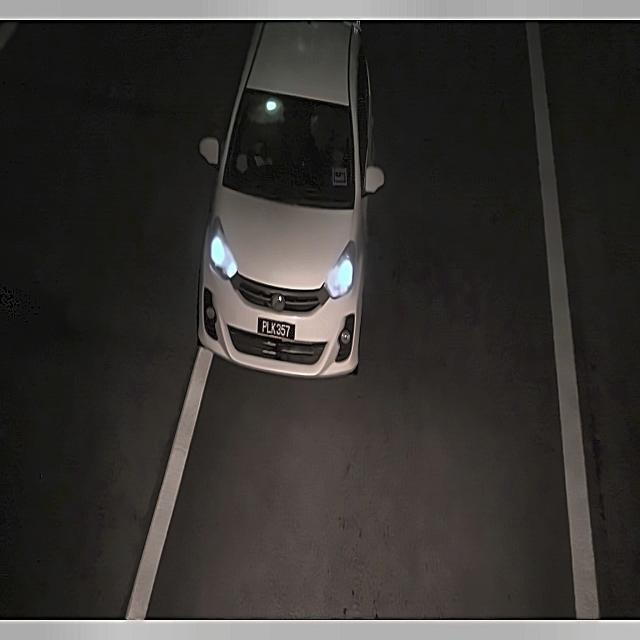car: (253, 312, 300, 345)
